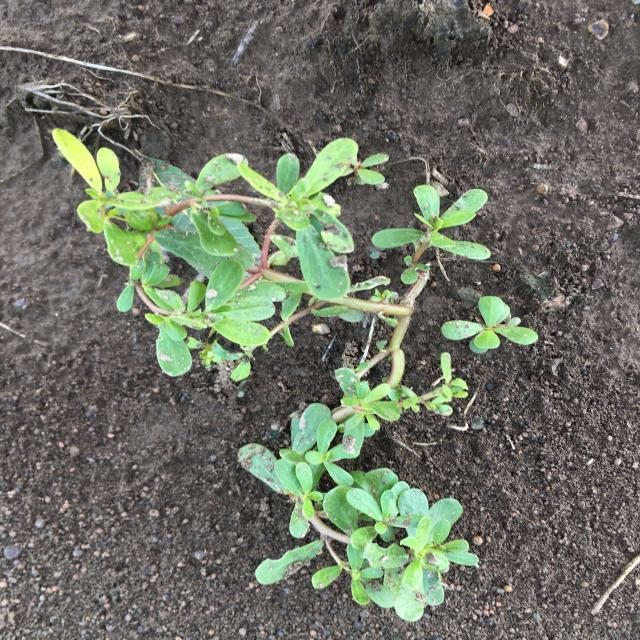Purslane: (52, 128, 479, 621), (441, 296, 538, 354)
